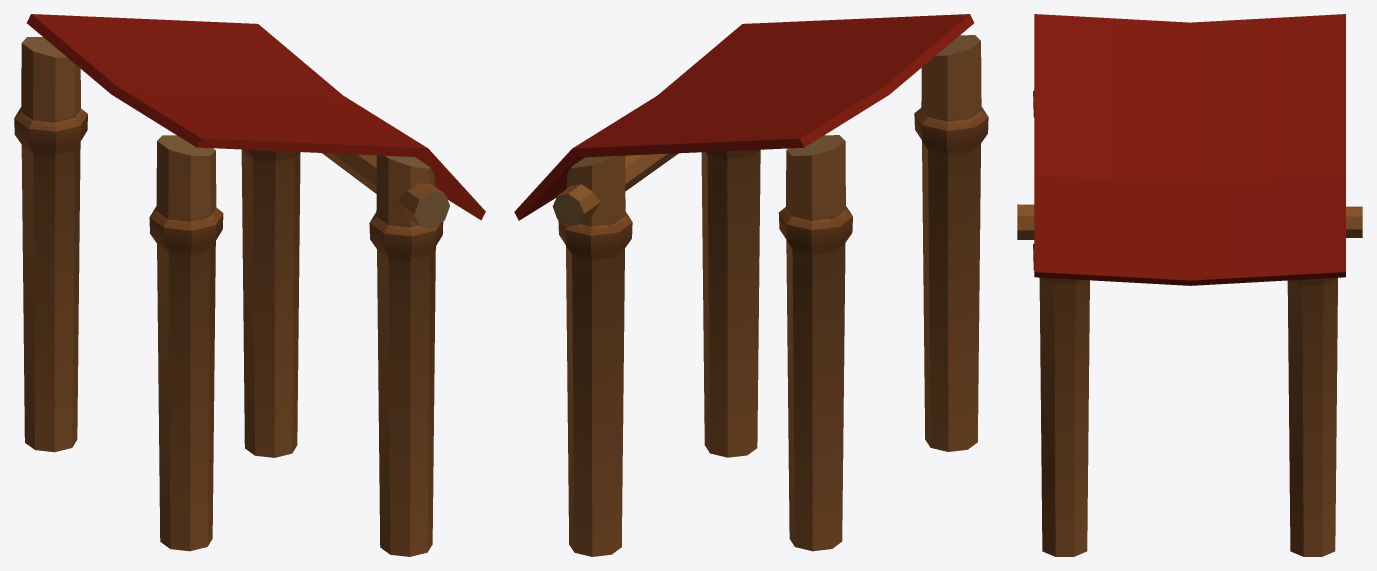
The model's file is Barrack_decoration.fbx.
The picture shows the model from 3 angles, left to right: view 1: azimuth 30°, elevation 25°; view 2: azimuth 150°, elevation 25°; view 3: azimuth 270°, elevation 25°; orthographic projection. The views are drawn at different scales.
Parts seen in each view (by area): view 1: Barrack_decoration; view 2: Barrack_decoration; view 3: Barrack_decoration.
Part boxes in pixels (x1=…): Barrack_decoration: x1=14, y1=14, x2=485, y2=556; Barrack_decoration: x1=514, y1=14, x2=988, y2=556; Barrack_decoration: x1=1017, y1=14, x2=1362, y2=556.
Bounding box in the file's own units: 419 × 606 × 437.
